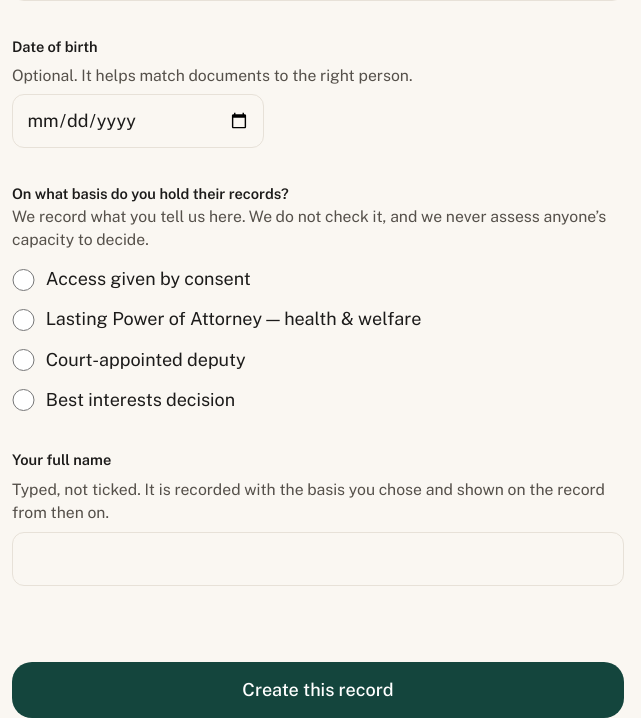
Test case: WelcomeForm › blocks an empty name with honest copy and posts nothing
The image size is (641, 718).
(page scrolled)
Click the button "Create this record" at [318, 690], box [12,662,624,717]
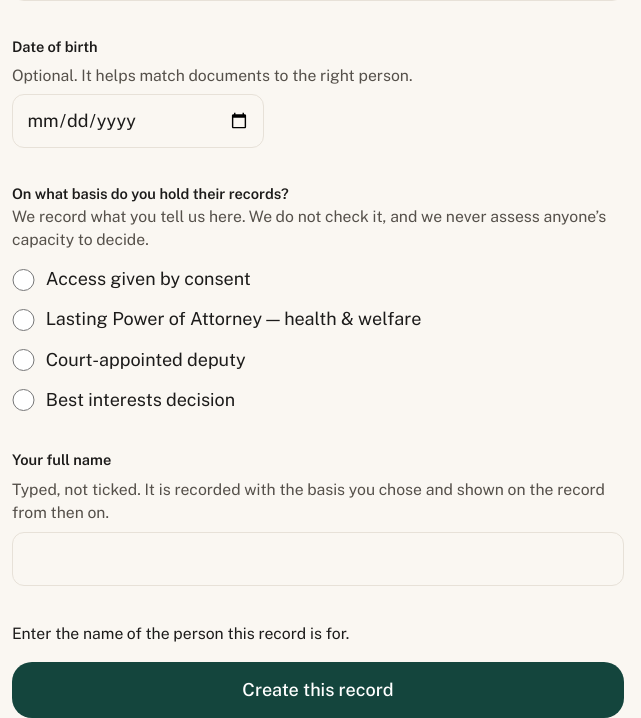
Check: the text "Enter the name of the person this record is for." is shown, box [12,624,349,643]
